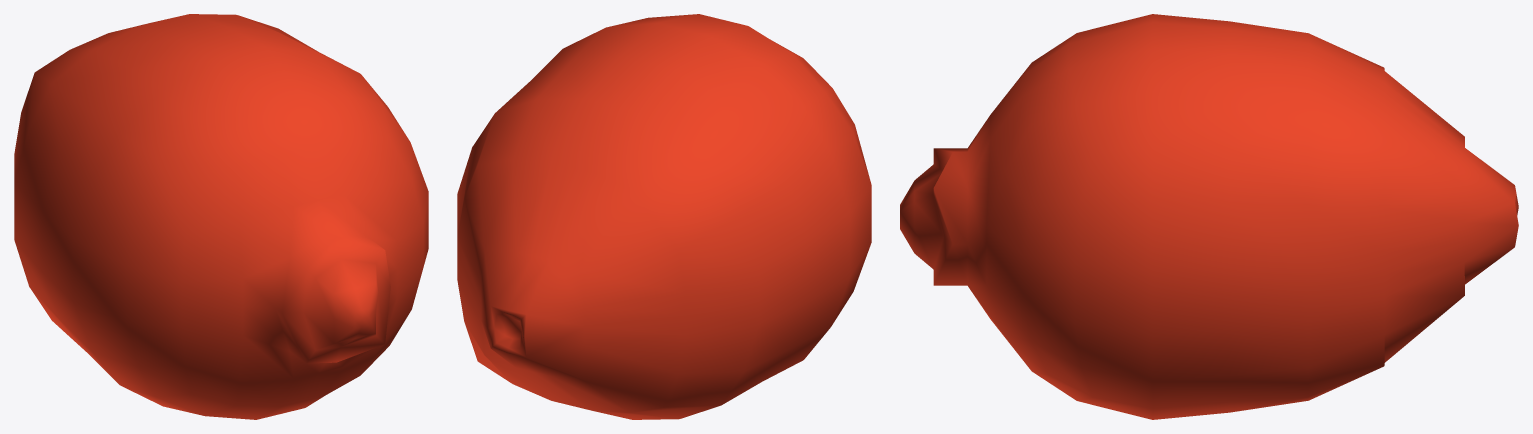
The model's file is Rosehip_Round.fbx.
3 renders of one model, left to right at view 1: azimuth 30°, elevation 25°; view 2: azimuth 150°, elevation 25°; view 3: azimuth 270°, elevation 25°, orthographic. The views are drawn at different scales.
Parts seen in each view (by area): view 1: rosehip round; view 2: rosehip round; view 3: rosehip round.
Part boxes in pixels (x1=…): rosehip round: x1=14, y1=14, x2=428, y2=419; rosehip round: x1=457, y1=14, x2=871, y2=419; rosehip round: x1=900, y1=14, x2=1518, y2=419.
Size of the model in its own units: 2.77 by 2.77 by 4.29.
